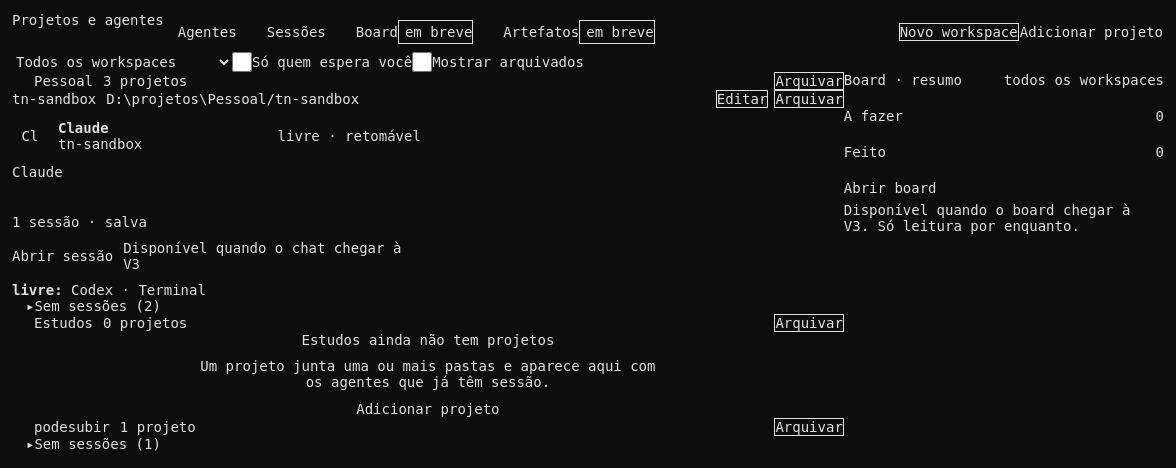
Projetos e agentes: Agentes tab › "Só quem espera você" with nobody waiting shows the filter-empty state and "Limpar filtros" restores it
Expected: the element named "Workspace Pessoal" is shown, [12,72,844,314]
Click the checkbox labelled "Só quem espera você" at (242, 62), box [232,52,252,72]
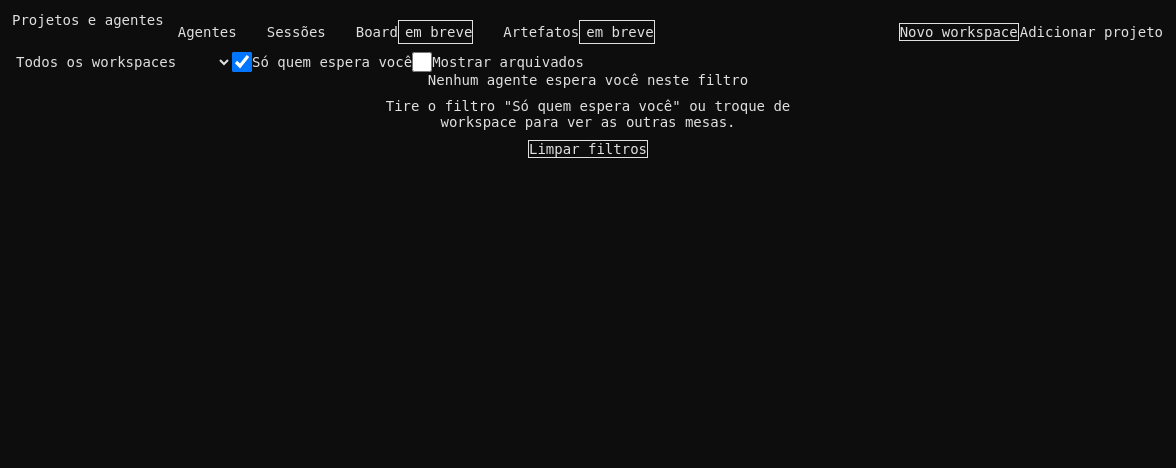
Now the heading "Nenhum agente espera você neste filtro" is shown, box [428,72,748,88]
Now the text "Tire o filtro \"Só quem espera você\" ou troque de workspace para ver as outras mesas." is shown, box [386,98,790,130]
Click the button "Limpar filtros" at (588, 149), box [528,140,648,158]
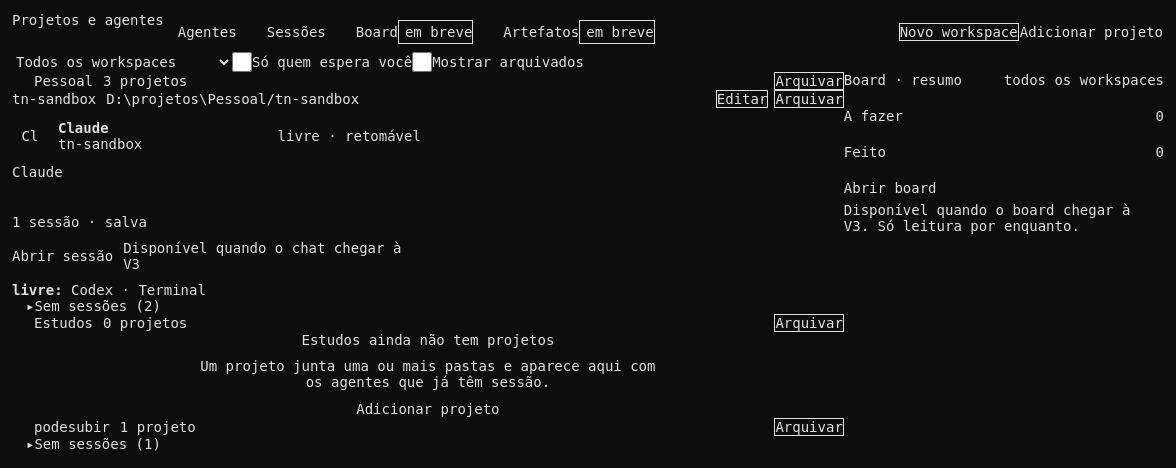
Now the checkbox labelled "Só quem espera você" is not checked, box [232,52,252,72]
Now the heading "Nenhum agente espera você neste filtro" is gone
Now the element named "Workspace Pessoal" is shown, box [12,72,844,314]
